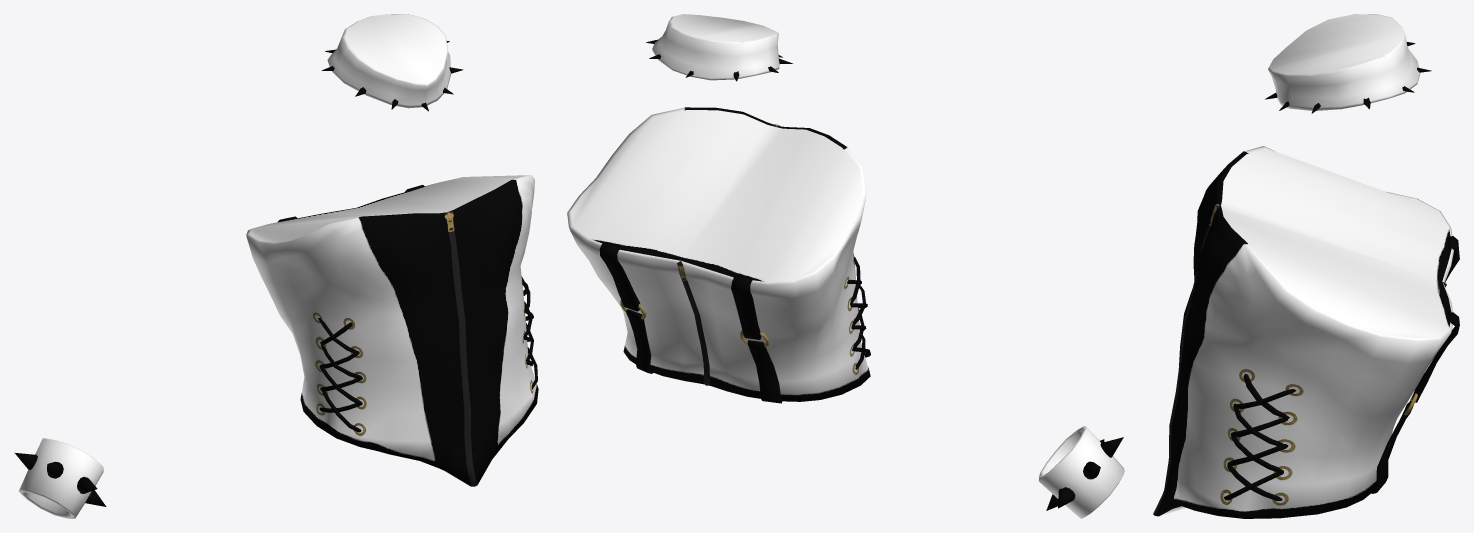
Rendered from SurvivorMale_Chest_Shirt_CorsetCollarBracelet_LOD0.glb.
3 renders of one model, left to right at view 1: azimuth 30°, elevation 25°; view 2: azimuth 150°, elevation 25°; view 3: azimuth 270°, elevation 25°, orthographic. The views are drawn at different scales.
Visible parts, largest first — view 1: Hoodie; view 2: Hoodie; view 3: Hoodie.
Part boxes in pixels (x1=…): Hoodie: x1=14, y1=14, x2=538, y2=518; Hoodie: x1=567, y1=14, x2=1124, y2=518; Hoodie: x1=1153, y1=14, x2=1459, y2=518.
Bounding box in the file's own units: 0.747 × 0.5686 × 0.328.
1 material, 1 textured.
